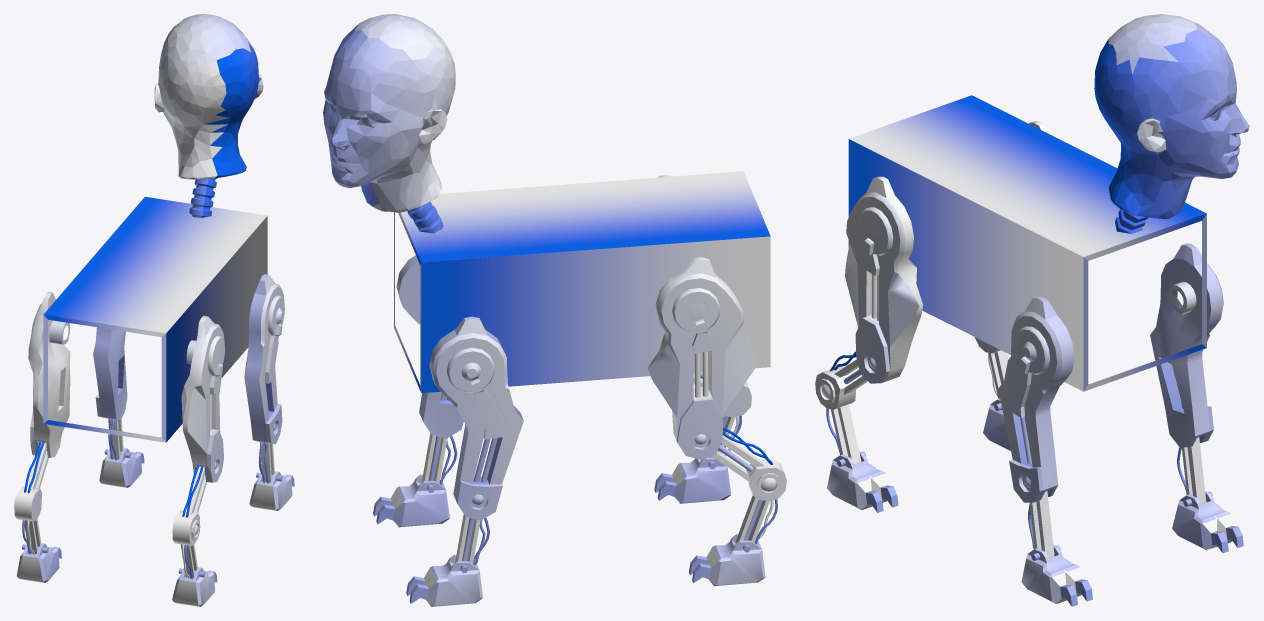
Rendered from dogeSide.glb.
3 views of the same model, side by side, from view 1: azimuth 30°, elevation 25°; view 2: azimuth 150°, elevation 25°; view 3: azimuth 270°, elevation 25° (orthographic). The views are drawn at different scales.
Visible parts, largest first — view 1: Mesh; view 2: Mesh; view 3: Mesh.
Boxes of the visible parts, <box> form: Mesh: <box>14,14,294,606</box>; Mesh: <box>323,14,786,606</box>; Mesh: <box>815,14,1249,606</box>.
Size of the model in its own units: 0.7191 by 0.9976 by 0.7016.
Materials: 1 (1 with a texture image).
